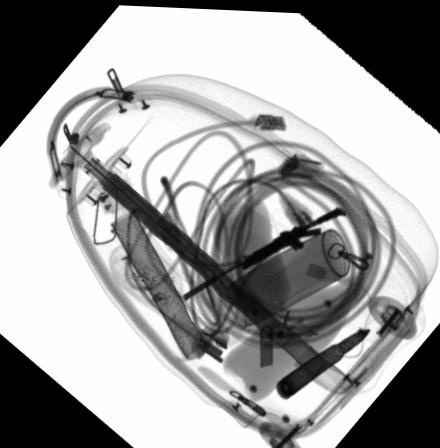Bullet: (276, 324, 371, 398)
Gun: (182, 202, 344, 298)
